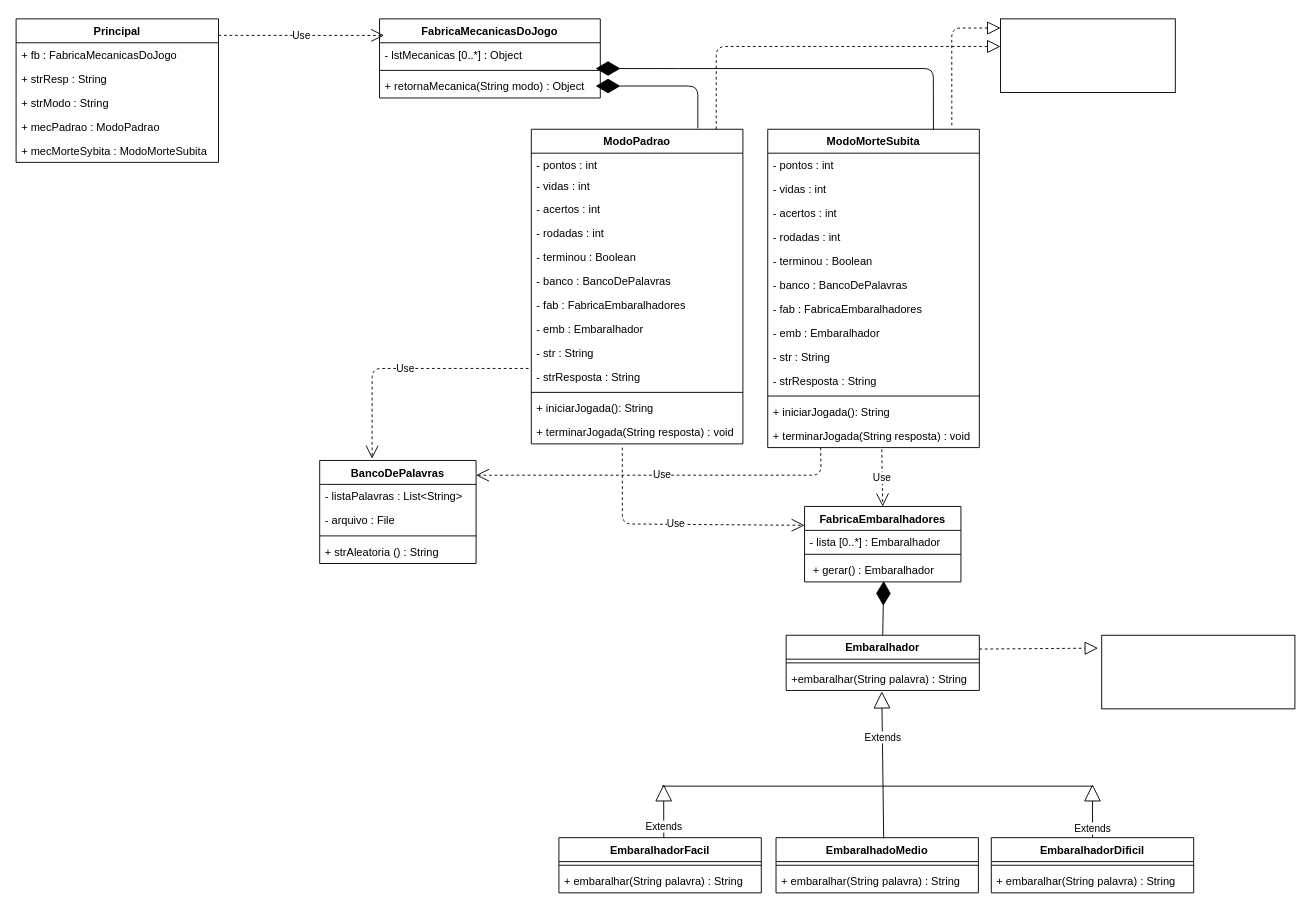
Image size: 1311x912. Some labels were removed from this diagram. The centre of each missing label's shape, as x and y in pixels:
<<Interface>> Embaralhador + embaralhar(String palavra) : String: pixel 1198 671
<<Interface>> MecanicaDoJogo + iniciarJogada() : String: pixel 1087 55
